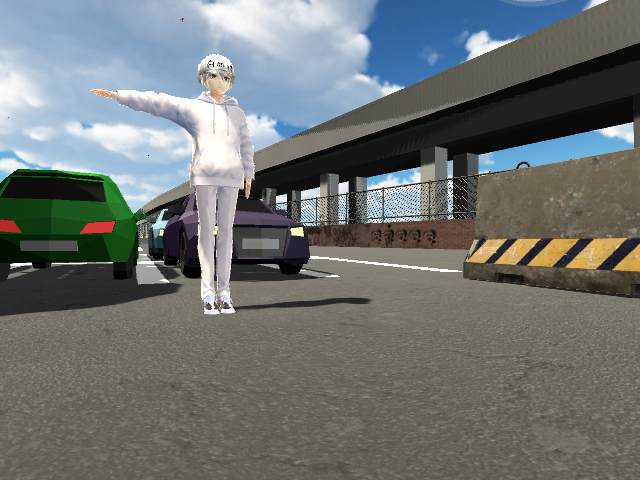singleP_left: (91, 53, 259, 317)
